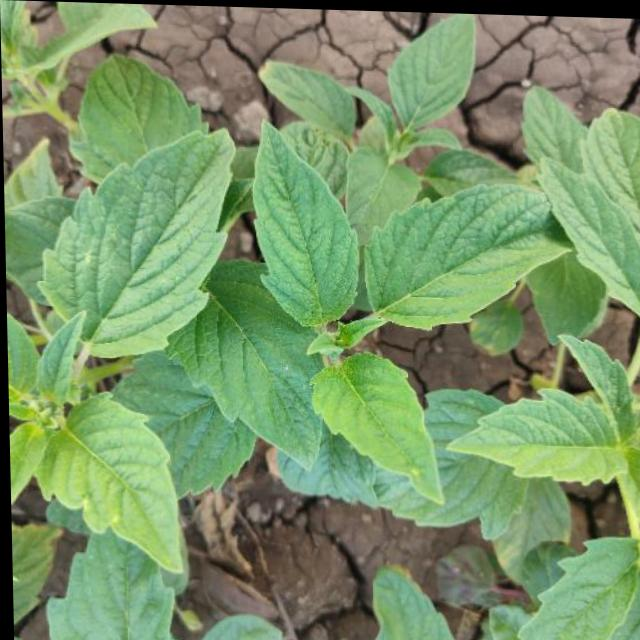crop: (9, 24, 640, 623)
